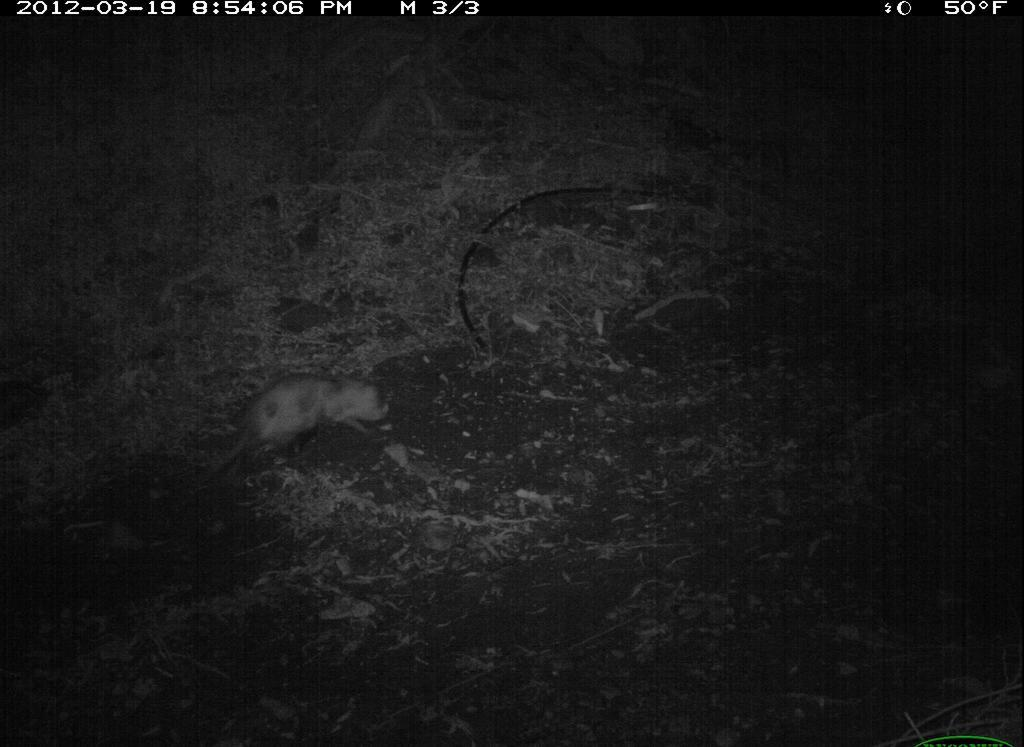opossum: (187, 364, 392, 487)
